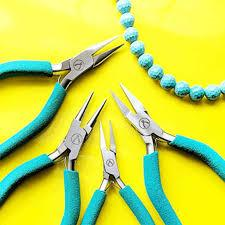pliers: (109, 81, 224, 224), (0, 34, 124, 153), (85, 117, 151, 224)
